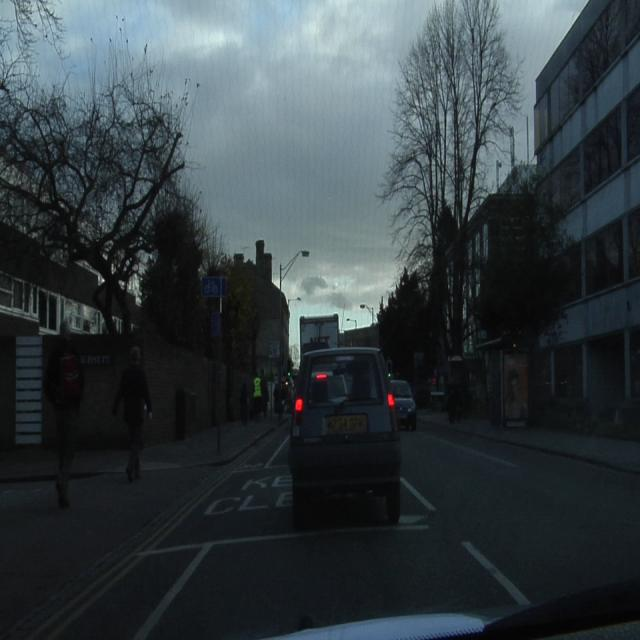Building: (491, 3, 639, 432), (0, 222, 218, 448), (248, 240, 290, 386)
Car: (289, 347, 401, 527), (391, 381, 415, 428)
Road: (1, 419, 638, 633)
Tree: (385, 0, 577, 354), (0, 47, 189, 333), (140, 183, 208, 349)
person: (44, 340, 83, 507), (112, 347, 151, 480)
